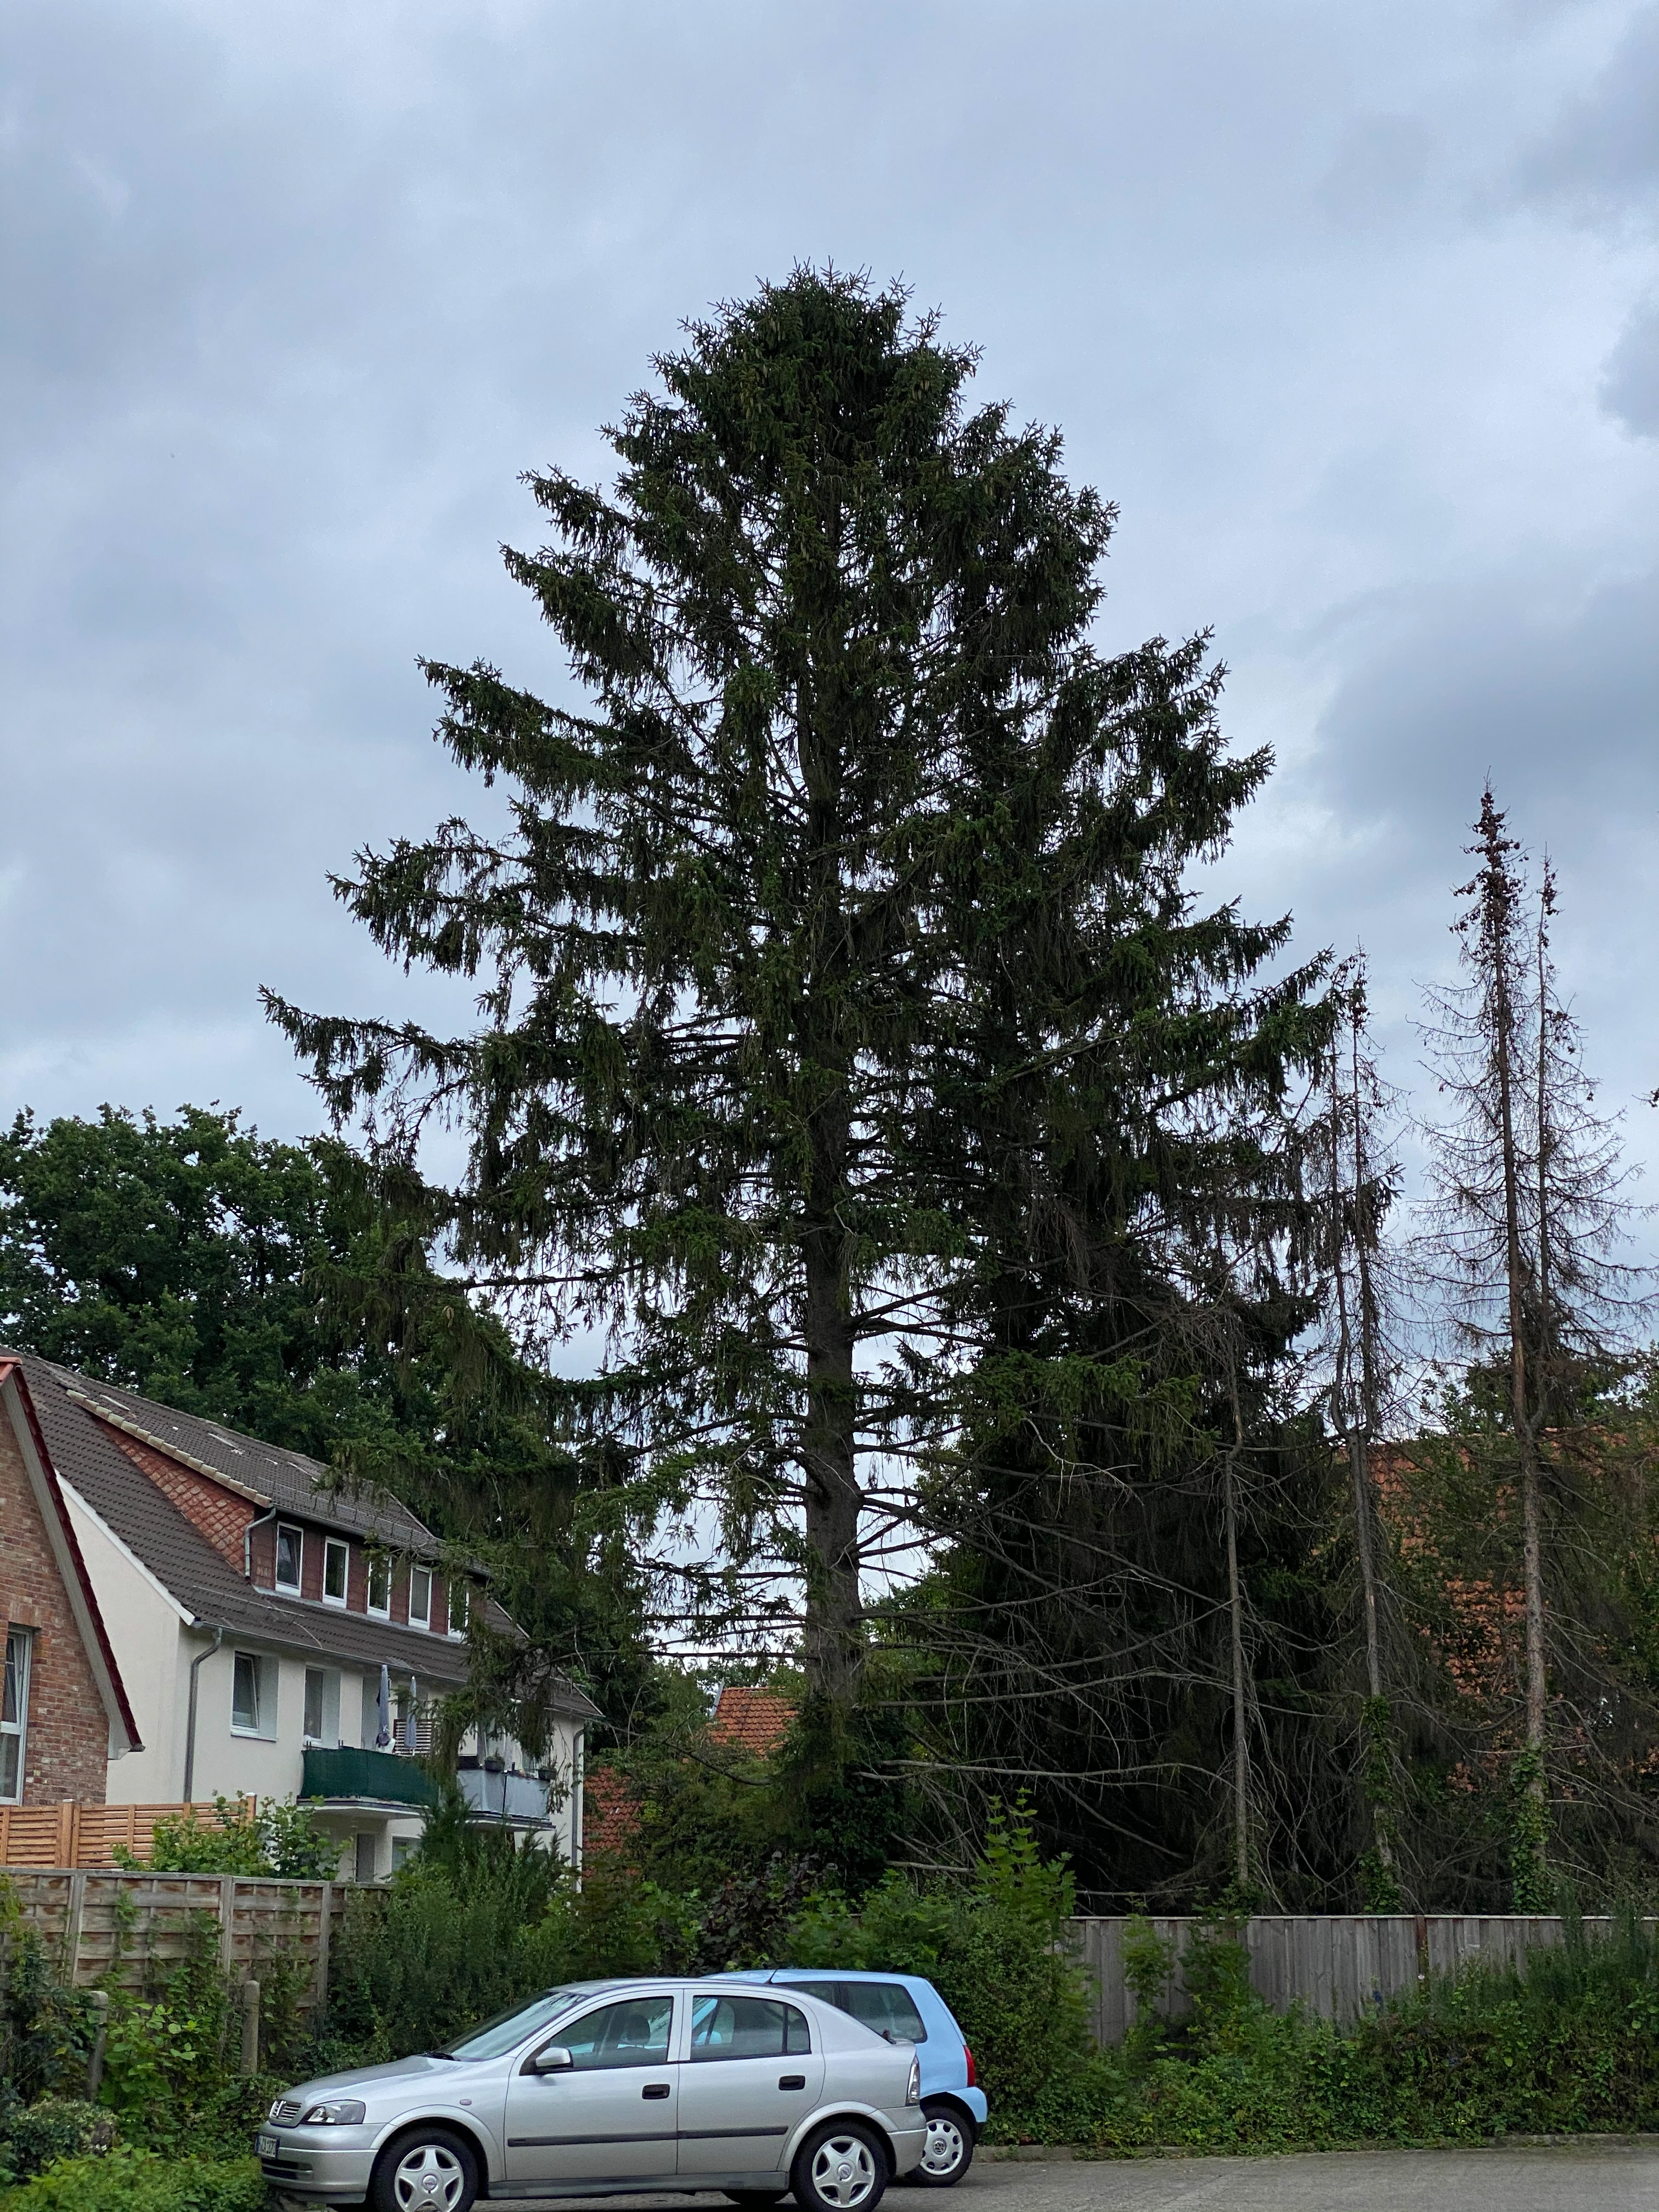tree: (258, 253, 1405, 1902), (866, 1134, 1493, 1914), (0, 1101, 666, 1824), (1405, 782, 1656, 1907), (1295, 1003, 1466, 1916), (1208, 1280, 1291, 1914)
